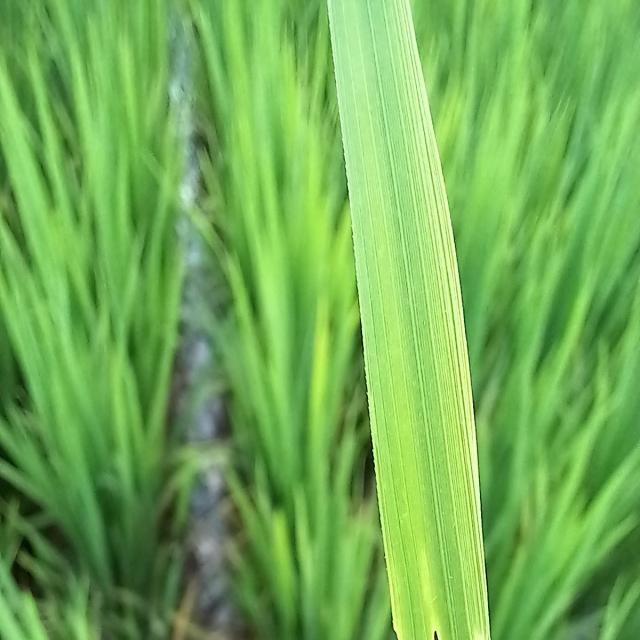HealthyLeaf: (330, 16, 489, 627)
